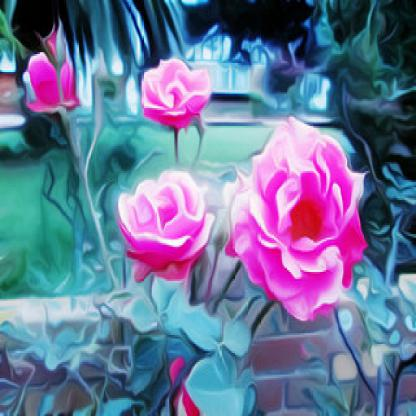ROSE-MAWAR: (18, 24, 368, 329)
